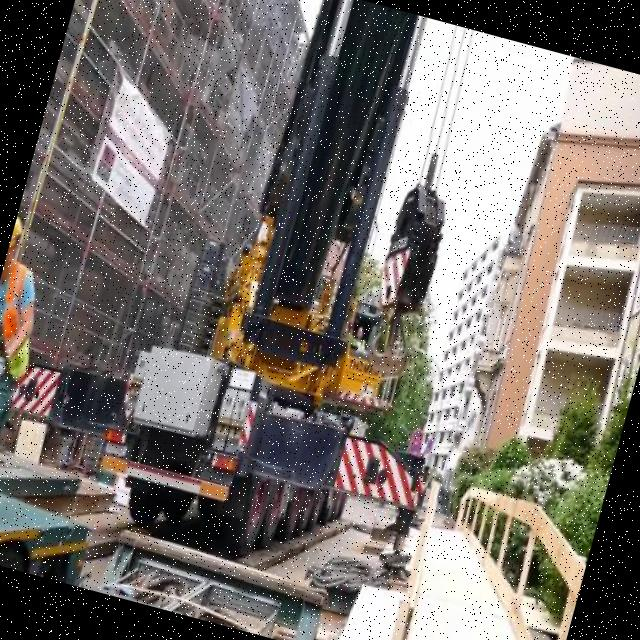Mobile Crane: (89, 0, 547, 594)
